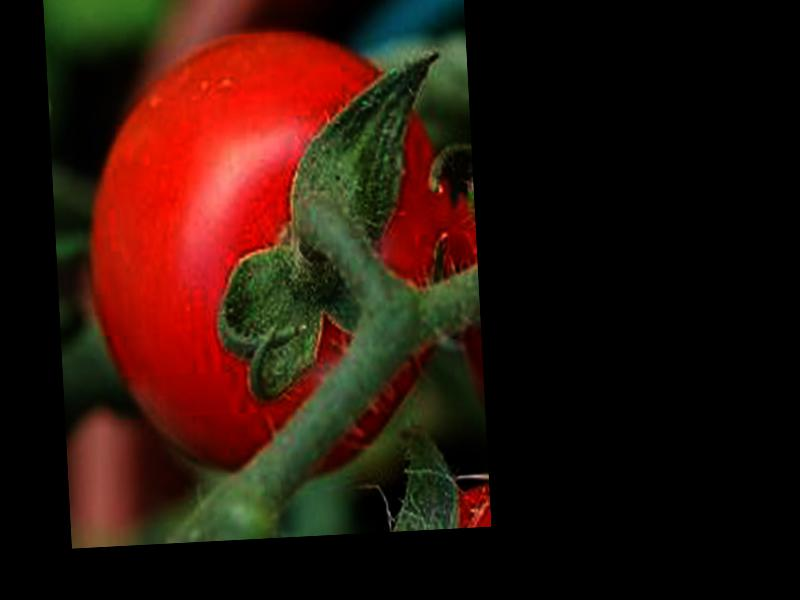Tomato: (80, 20, 478, 491)
